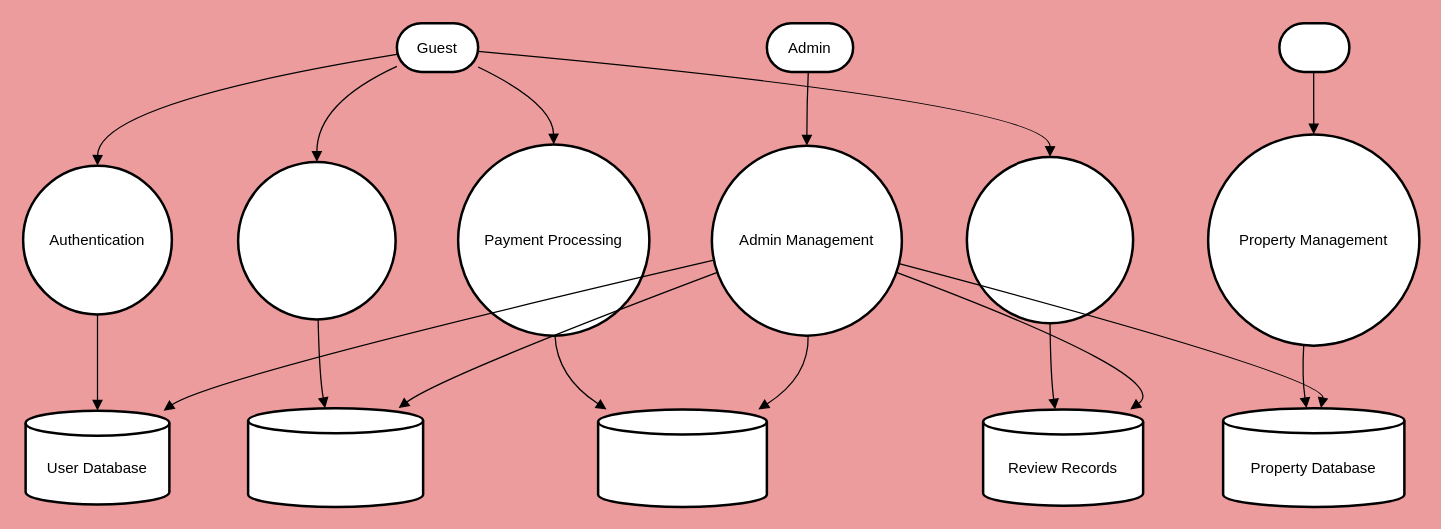
The diagram is 1441 pixels wide and 529 high, and some of its shapes have lost their labels. The centre of each missing label's shape, as x and y in pixels:
"Booking Database" goes at pixel 335 457.
"Booking System" goes at pixel 316 240.
"Host" goes at pixel 1314 46.
"Payment Records" goes at pixel 682 458.
"Review & Rating" goes at pixel 1049 239.
